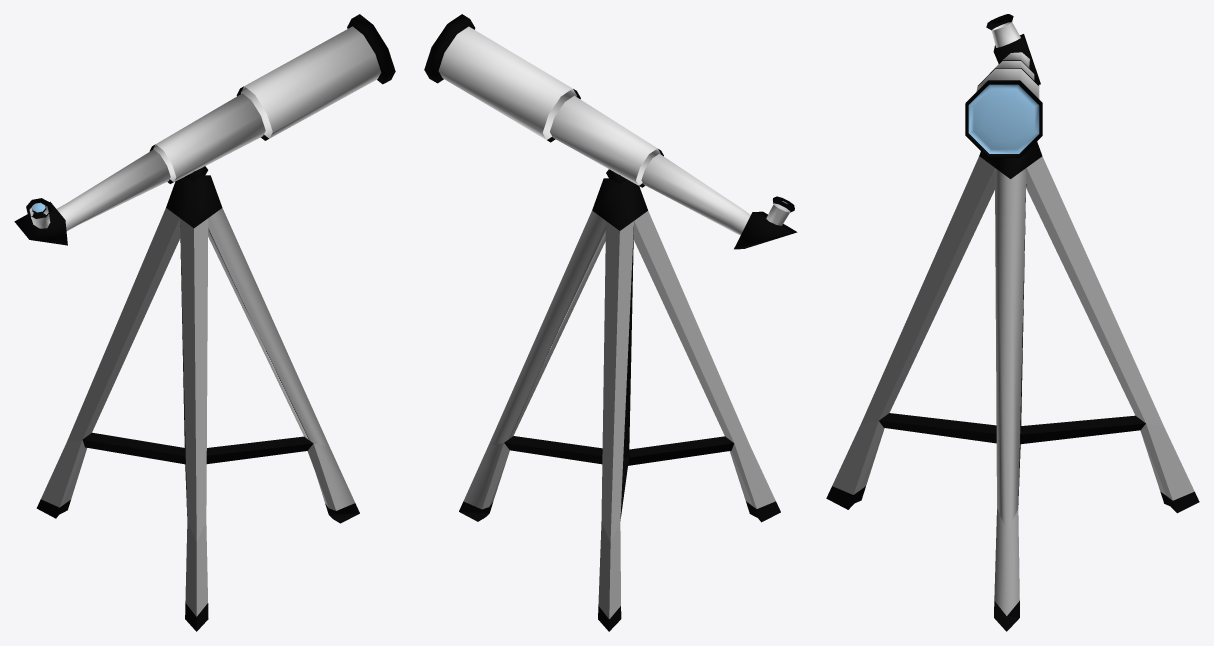
Rendered from telescope.gltf.
The picture shows the model from 3 angles, left to right: view 1: azimuth 30°, elevation 25°; view 2: azimuth 150°, elevation 25°; view 3: azimuth 270°, elevation 25°; orthographic projection. The views are drawn at different scales.
Parts seen in each view (by area): view 1: Circle, Cube; view 2: Circle, Cube; view 3: Circle, Cube.
Part boxes in pixels (bbox=[...]): Circle: bbox=[36, 166, 359, 631]; Cube: bbox=[14, 14, 395, 245]; Circle: bbox=[459, 169, 780, 631]; Cube: bbox=[424, 14, 797, 249]; Circle: bbox=[826, 141, 1199, 631]; Cube: bbox=[965, 14, 1042, 158].
Bounding box in the file's own units: 0.6396 × 0.8345 × 0.5104.
